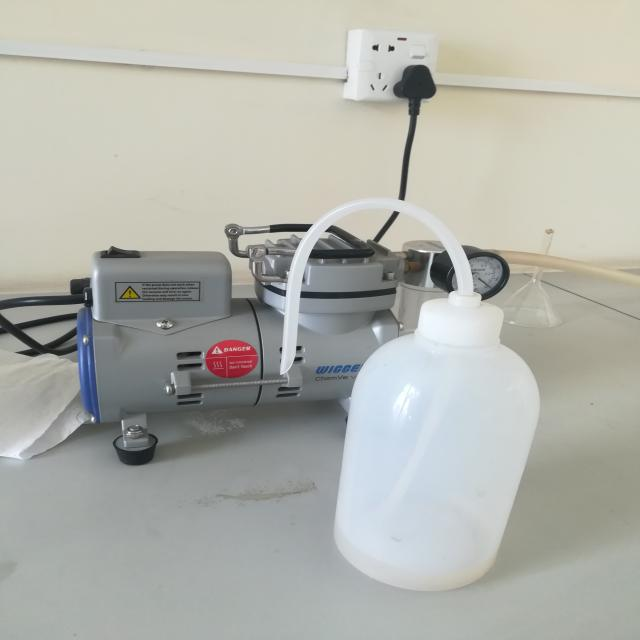Wash_Bottle: (232, 175, 568, 613)
